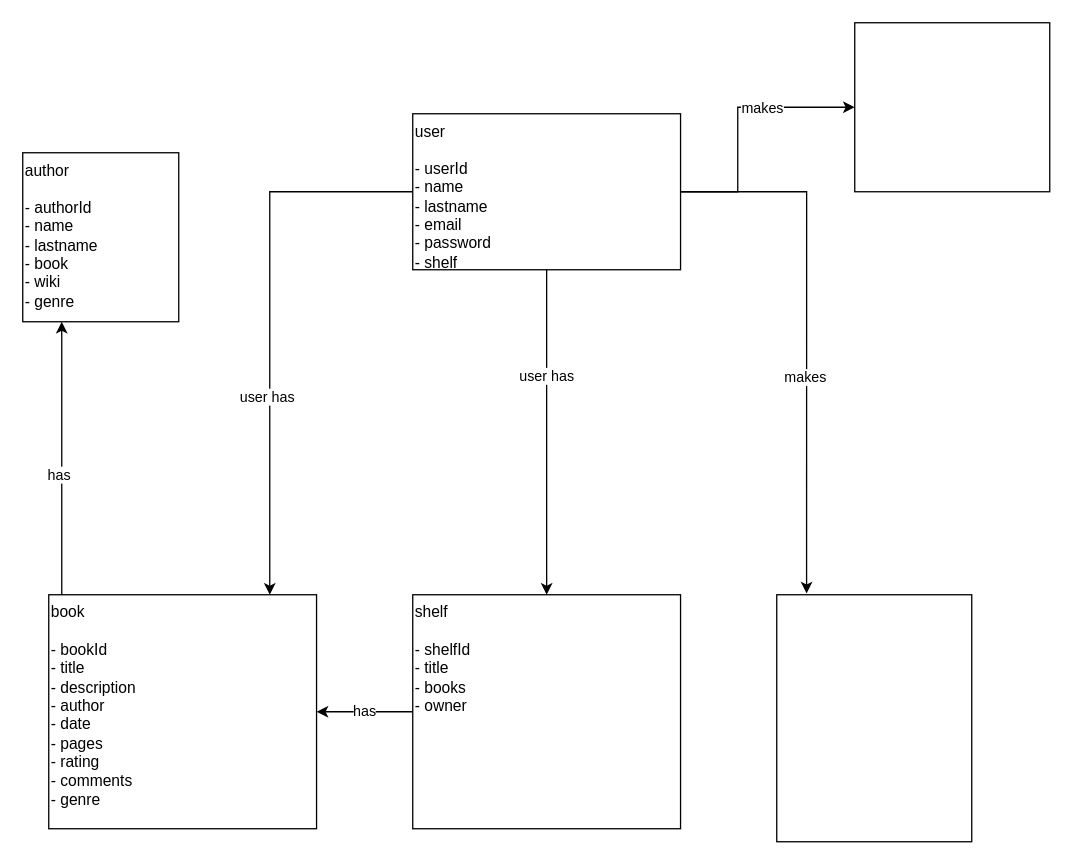
Image size: 1073x864. Some labels were removed from this diagram. Here are the shapes that lost their labels. From the top down, the centre of each, then its label:
the point at 951,106: comment - commentId - title - message - date - creator
the point at 873,717: record - recordId - book - message - date - creator
